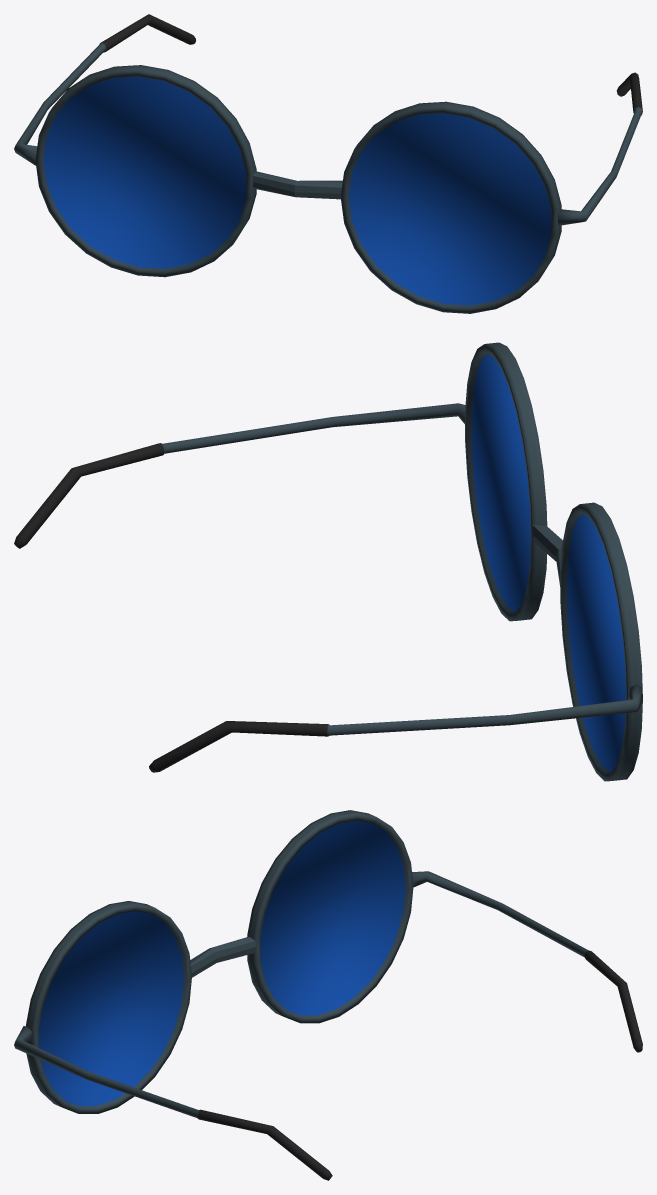
File: blueglasses.glb
The picture shows the model from 3 angles, top to bottom: view 1: azimuth 30°, elevation 25°; view 2: azimuth 150°, elevation 25°; view 3: azimuth 270°, elevation 25°; orthographic projection. The views are drawn at different scales.
Visible parts, largest first — view 1: glasses_blue; view 2: glasses_blue; view 3: glasses_blue.
Boxes of the visible parts, x1,y1,x2,y2 form: glasses_blue: (14, 14, 642, 313); glasses_blue: (14, 342, 642, 781); glasses_blue: (14, 810, 642, 1180).
Size of the model in its own units: 0.3248 by 0.1143 by 0.326.
Materials: 2 (2 with a texture image).
